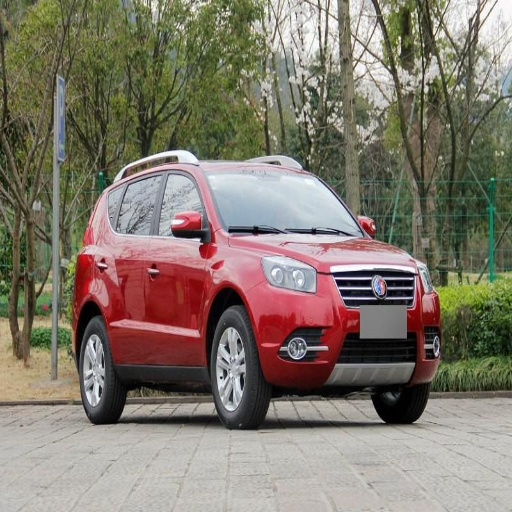front_bumper: (251, 269, 439, 387)
front_right_door: (147, 165, 212, 363)
front_right_light: (263, 257, 318, 292)
